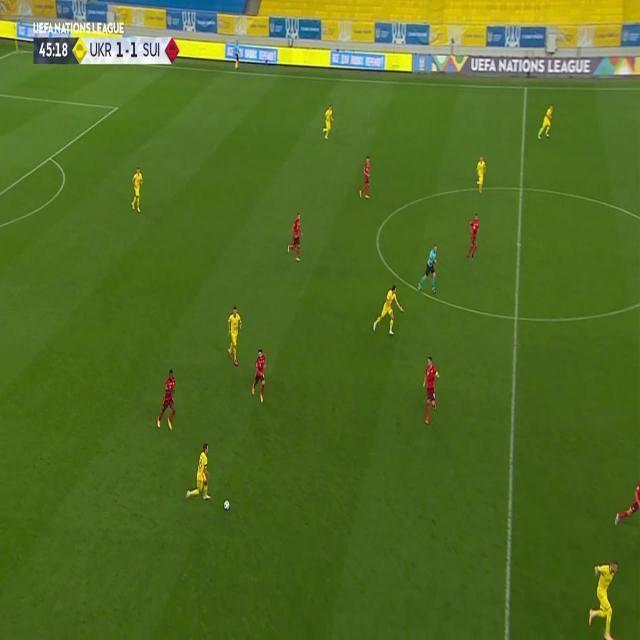ball: (223, 498, 231, 511)
player: (584, 558, 618, 640), (370, 285, 404, 338), (184, 442, 211, 508), (613, 473, 640, 530), (157, 367, 177, 432), (422, 357, 440, 428), (226, 305, 244, 367), (252, 349, 267, 406), (287, 212, 303, 265), (357, 155, 373, 203), (536, 102, 555, 141), (466, 215, 482, 261), (131, 167, 143, 214), (322, 103, 336, 141), (475, 156, 486, 194)
referee: (413, 238, 436, 292), (234, 39, 241, 71)
